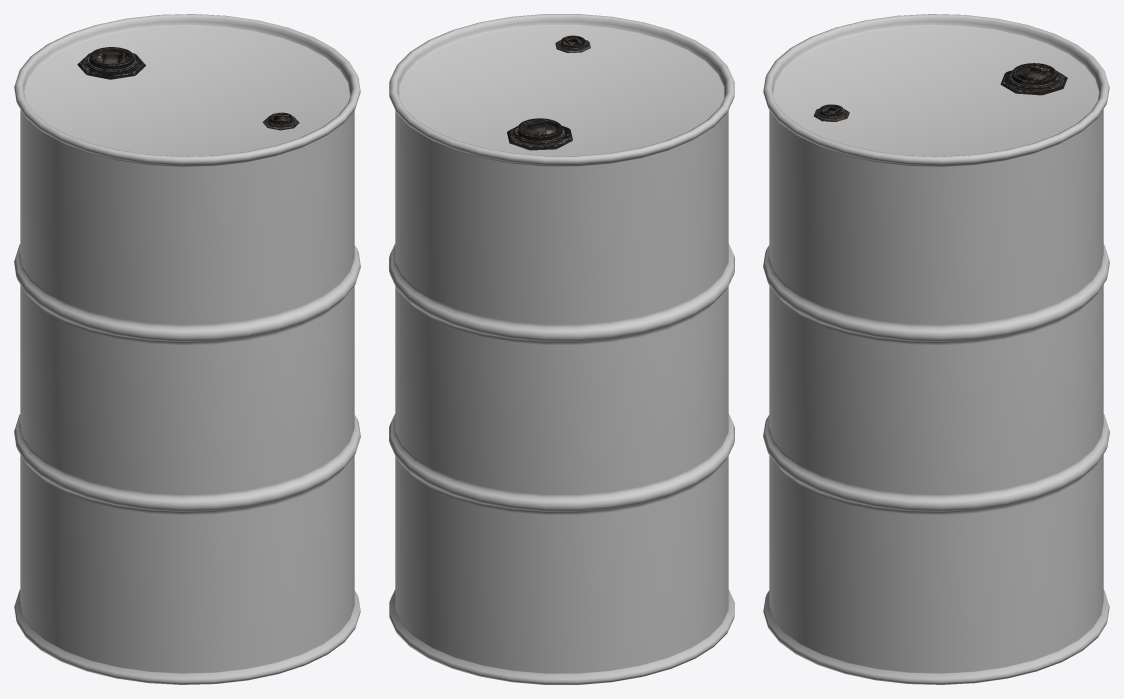
File: Barrel.fbx
3 renders of one model, left to right at view 1: azimuth 30°, elevation 25°; view 2: azimuth 150°, elevation 25°; view 3: azimuth 270°, elevation 25°, orthographic.
Parts seen in each view (by area): view 1: NormalBarrel; view 2: NormalBarrel; view 3: NormalBarrel.
Part boxes in pixels (<box>): NormalBarrel: <box>14,14,360,684</box>; NormalBarrel: <box>389,14,734,684</box>; NormalBarrel: <box>763,14,1109,684</box>.
Bounding box in the file's own units: 20.59 × 34.53 × 20.59.
